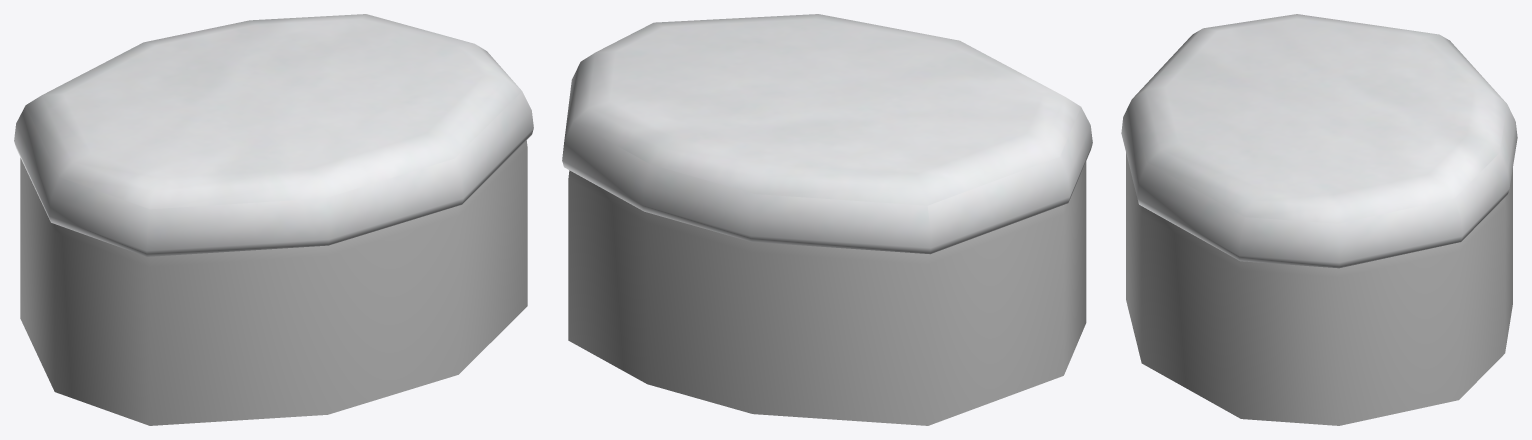
Rendered from Cliff05.fbx.
3 renders of one model, left to right at view 1: azimuth 30°, elevation 25°; view 2: azimuth 150°, elevation 25°; view 3: azimuth 270°, elevation 25°, orthographic. The views are drawn at different scales.
Parts seen in each view (by area): view 1: Cliff05; view 2: Cliff05; view 3: Cliff05.
Boxes of the visible parts, <box> form: Cliff05: <box>14,14,533,425</box>; Cliff05: <box>562,14,1092,425</box>; Cliff05: <box>1121,14,1517,425</box>.
Size of the model in its own units: 179 by 83.52 by 140.
